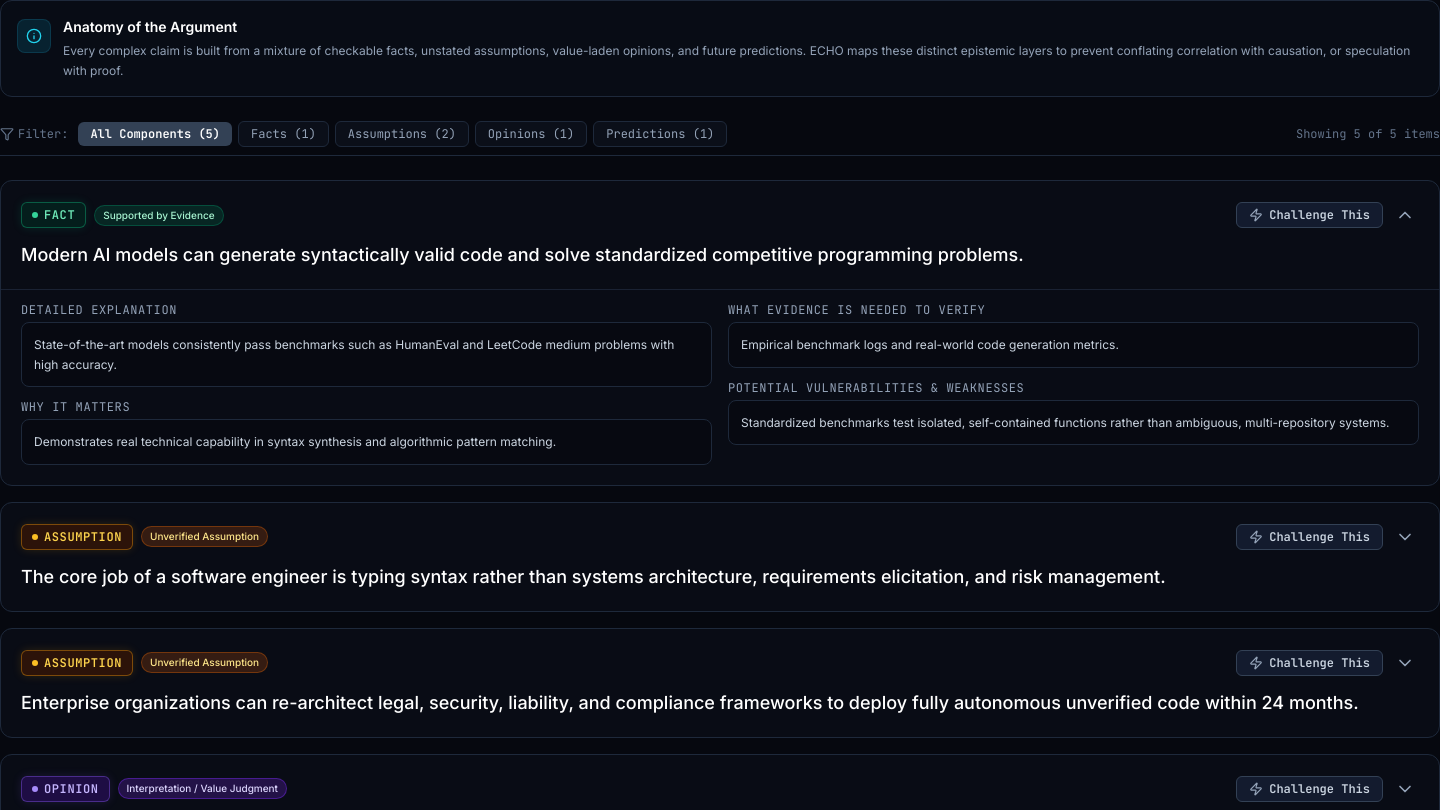
it: ClaimDeconstructor Component › filters items when category filter button is clicked
# Filter by Facts
Click the button "Facts (1)": (283, 134) [238,121,329,147]
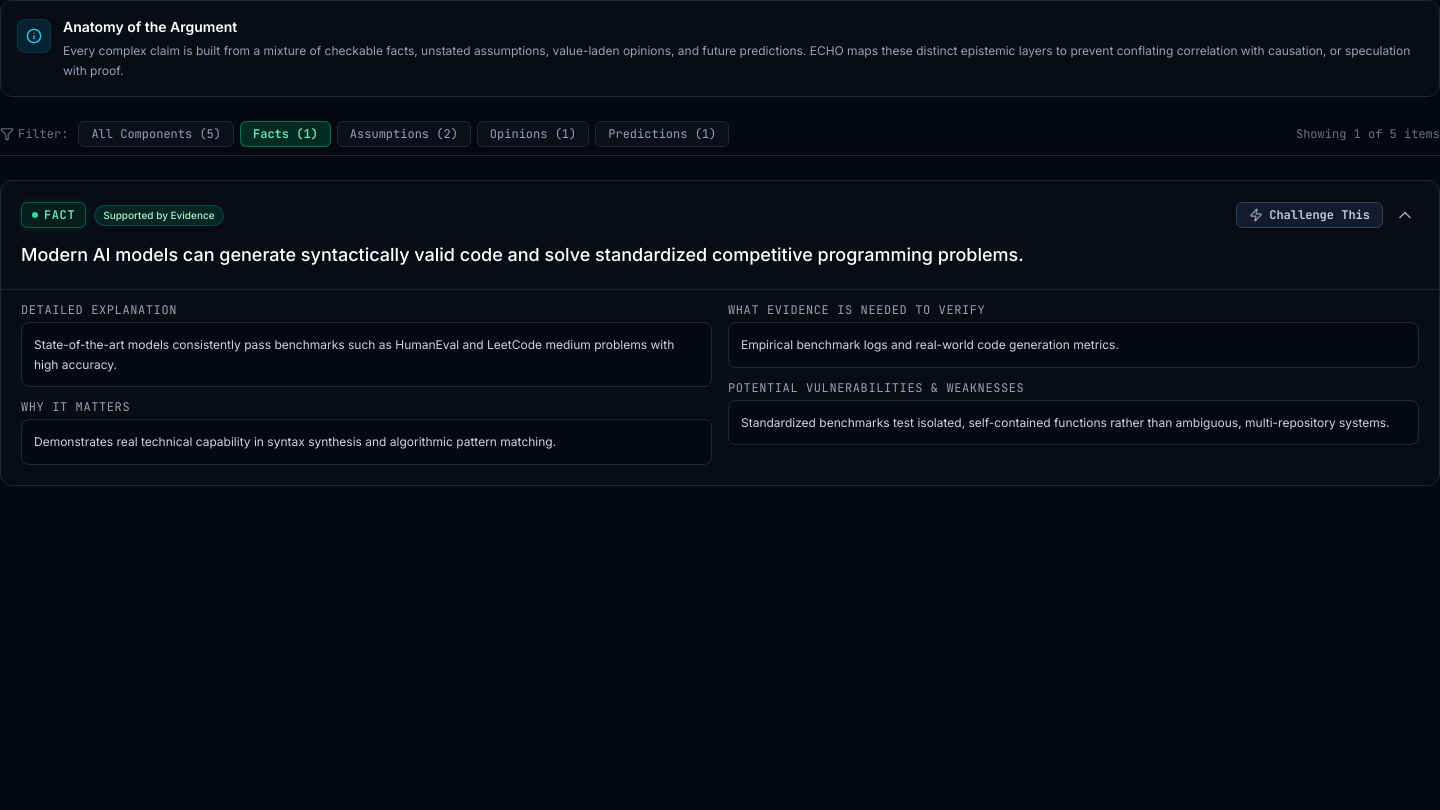
Check: the text "Modern AI models can generate syntactically valid code and solve standardized competitive programming problems." is shown, box [21,244,1024,265]
Check: the text "The core job of a software engineer is typing syntax rather than systems architecture, requirements elicitation, and ris" is gone
